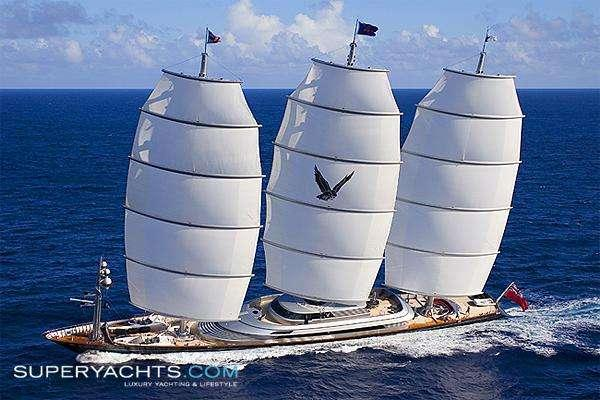bird: (313, 163, 357, 203)
fanchuan: (43, 16, 537, 356)
